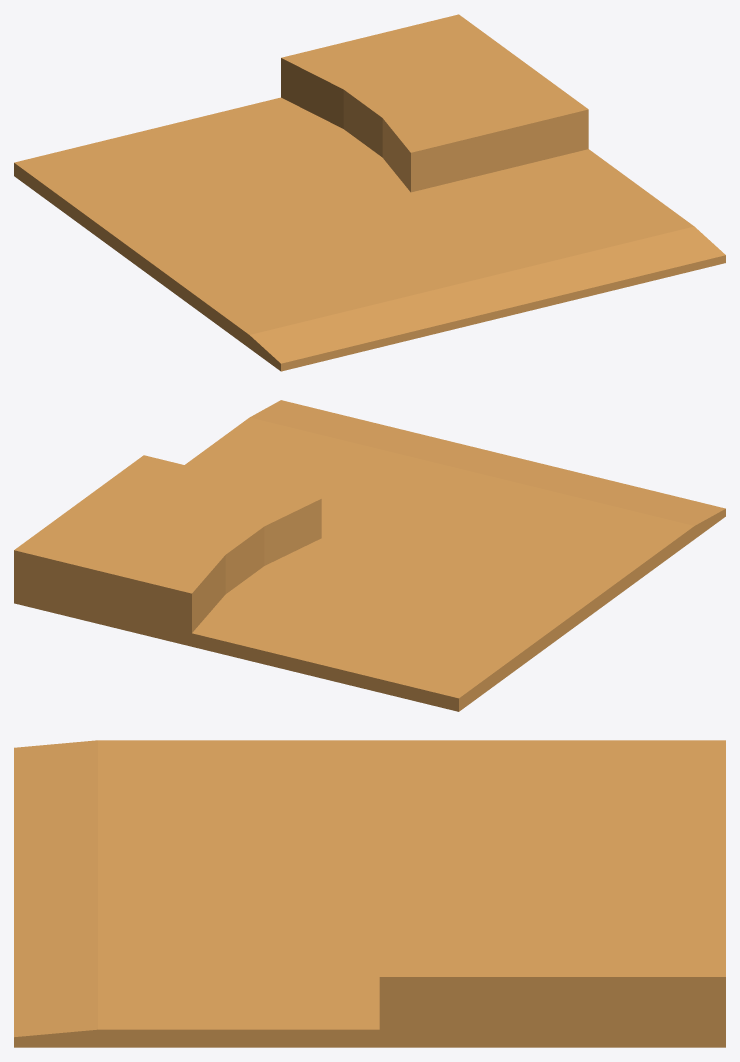
File: Temp_Floor.fbx
3 views of the same model, one above another, from view 1: azimuth 30°, elevation 25°; view 2: azimuth 150°, elevation 25°; view 3: azimuth 270°, elevation 25° (orthographic). The views are drawn at different scales.
Visible parts, largest first — view 1: Cube; view 2: Cube; view 3: Cube.
Part boxes in pixels (box(x1,y1,x2,y2)): Cube: box(14, 14, 725, 371); Cube: box(14, 400, 725, 711); Cube: box(14, 740, 725, 1047).
Size of the model in its own units: 6895 by 787 by 7168.
